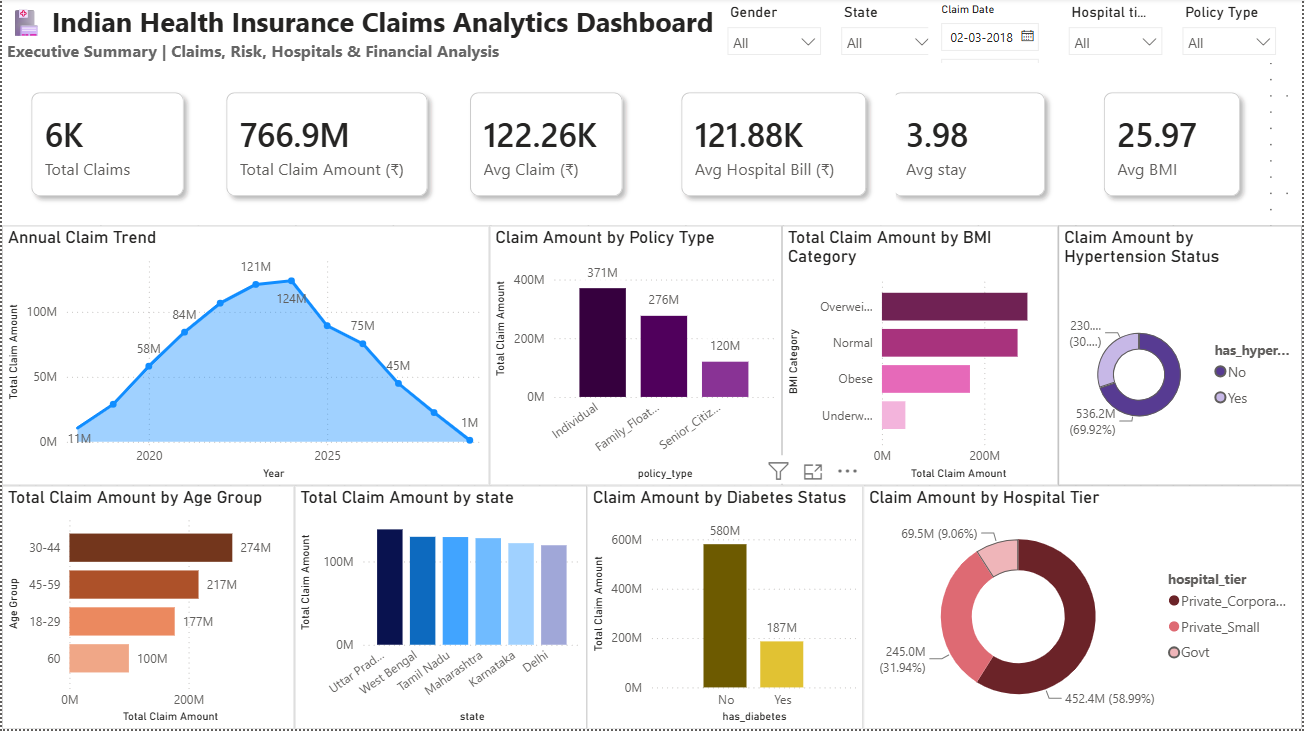

This screenshot's page, from the dashboard's own definition file:
{"tool":"powerbi","page":{"name":"Page 1","canvas":[1280,720],"ordinal":0},"visuals":[{"type":"textbox","box":[0,0,736,80],"z":0},{"type":"cardVisual","fields":{"Data":["indian_health_insurance_claims_dataset.Total Claims"]},"box":[0,64,208,160],"z":1000},{"type":"cardVisual","fields":{"Data":["indian_health_insurance_claims_dataset.Cashless Claim Rate"]},"box":[1056,64,224,160],"z":2000},{"type":"cardVisual","fields":{"Data":["indian_health_insurance_claims_dataset.Average Length of Stay"]},"box":[864,64,208,160],"z":3000},{"type":"cardVisual","fields":{"Data":["indian_health_insurance_claims_dataset.Average Hospital Bill"]},"box":[640,64,240,160],"z":4000},{"type":"cardVisual","fields":{"Data":["indian_health_insurance_claims_dataset.Average Claim Amount"]},"box":[448,64,224,160],"z":5000},{"type":"cardVisual","fields":{"Data":["indian_health_insurance_claims_dataset.Total Claim Amount"]},"box":[192,64,288,160],"z":6000},{"type":"slicer","fields":{"Values":["indian_health_insurance_claims_dataset.state"]},"box":[784,0,112,64],"z":7000},{"type":"slicer","fields":{"Values":["indian_health_insurance_claims_dataset.policy_type"]},"box":[1056,0,128,64],"z":8000},{"type":"slicer","fields":{"Values":["indian_health_insurance_claims_dataset.gender"]},"box":[672,0,112,64],"z":10000},{"type":"slicer","fields":{"Values":["indian_health_insurance_claims_dataset.hospital_tier"]},"box":[912,0,144,64],"z":11000},{"type":"lineChart","title":"Annual Claim Trend","fields":{"Category":["indian_health_insurance_claims_dataset.claim_date.Variation.Date Hierarchy.Year"],"Y":["indian_health_insurance_claims_dataset.Valid Claims Total Amount"]},"box":[0,208,480,256],"z":12000},{"type":"tableEx","title":"Claim Amount by Policy Type","fields":{"Values":["indian_health_insurance_claims_dataset.policy_type","indian_health_insurance_claims_dataset.Total Claim Amount","indian_health_insurance_claims_dataset.Average Claim Amount","indian_health_insurance_claims_dataset.Policy Type Share %"]},"box":[112,464,512,128],"z":13000},{"type":"clusteredColumnChart","title":"Claim Amount by Hospital Tier","fields":{"Category":["indian_health_insurance_claims_dataset.hospital_tier"],"Y":["indian_health_insurance_claims_dataset.Average Claim Amount"]},"box":[1008,208,272,272],"z":14000},{"type":"columnChart","fields":{"Category":["indian_health_insurance_claims_dataset.Age Group"],"Y":["indian_health_insurance_claims_dataset.Total Claim Amount"]},"box":[624,464,256,256],"z":15000},{"type":"barChart","title":"Claim Amount by State","fields":{"Category":["indian_health_insurance_claims_dataset.state"],"Y":["indian_health_insurance_claims_dataset.Total Claim Amount"]},"box":[480,208,528,256],"z":16000},{"type":"textbox","box":[880,464,400,256],"z":19000}]}

Visuals, with their boxes in screenshot pixels (x1, y1, x2, y2), scaled from the page's 1280x720 canvas onto the 1305x731 screenshot:
textbox: Rect(0, 0, 750, 81)
cardVisual - indian_health_insurance_claims_dataset.Total Claims: Rect(0, 65, 212, 227)
cardVisual - indian_health_insurance_claims_dataset.Cashless Claim Rate: Rect(1077, 65, 1304, 227)
cardVisual - indian_health_insurance_claims_dataset.Average Length of Stay: Rect(881, 65, 1093, 227)
cardVisual - indian_health_insurance_claims_dataset.Average Hospital Bill: Rect(652, 65, 897, 227)
cardVisual - indian_health_insurance_claims_dataset.Average Claim Amount: Rect(457, 65, 685, 227)
cardVisual - indian_health_insurance_claims_dataset.Total Claim Amount: Rect(196, 65, 489, 227)
slicer - indian_health_insurance_claims_dataset.state: Rect(799, 0, 914, 65)
slicer - indian_health_insurance_claims_dataset.policy_type: Rect(1077, 0, 1207, 65)
slicer - indian_health_insurance_claims_dataset.gender: Rect(685, 0, 799, 65)
slicer - indian_health_insurance_claims_dataset.hospital_tier: Rect(930, 0, 1077, 65)
"Annual Claim Trend" lineChart: Rect(0, 211, 489, 471)
"Claim Amount by Policy Type" tableEx: Rect(114, 471, 636, 601)
"Claim Amount by Hospital Tier" clusteredColumnChart: Rect(1028, 211, 1304, 487)
columnChart - indian_health_insurance_claims_dataset.Age Group x indian_health_insurance_claims_dataset.Total Claim Amount: Rect(636, 471, 897, 730)
"Claim Amount by State" barChart: Rect(489, 211, 1028, 471)
textbox: Rect(897, 471, 1304, 730)
